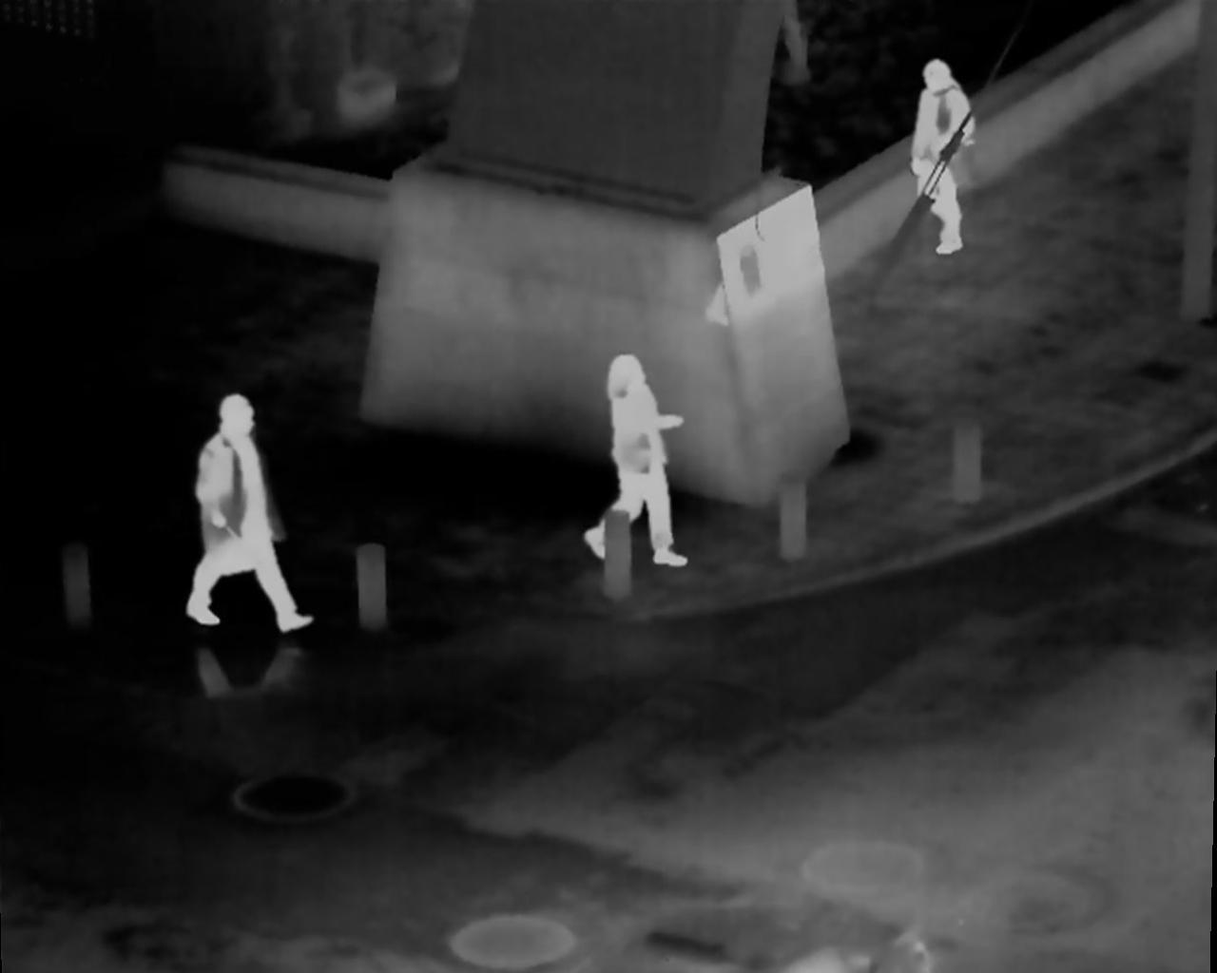person: (186, 393, 313, 636), (590, 352, 693, 567), (905, 58, 976, 258)
